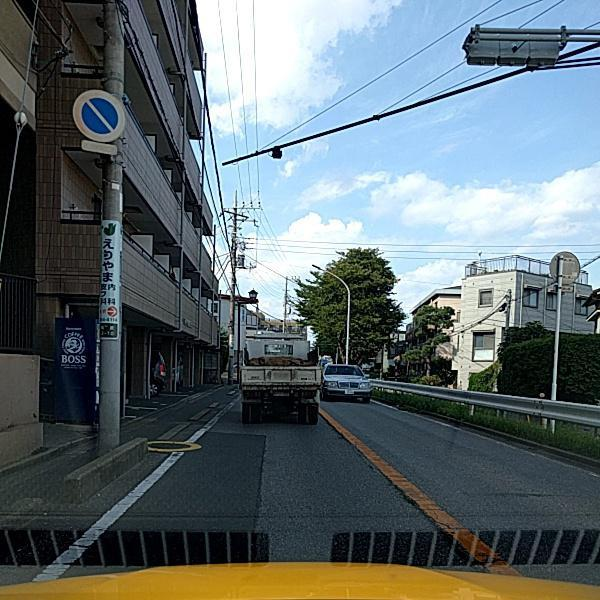D44: (313, 404, 513, 578)
D50: (144, 440, 192, 452)
